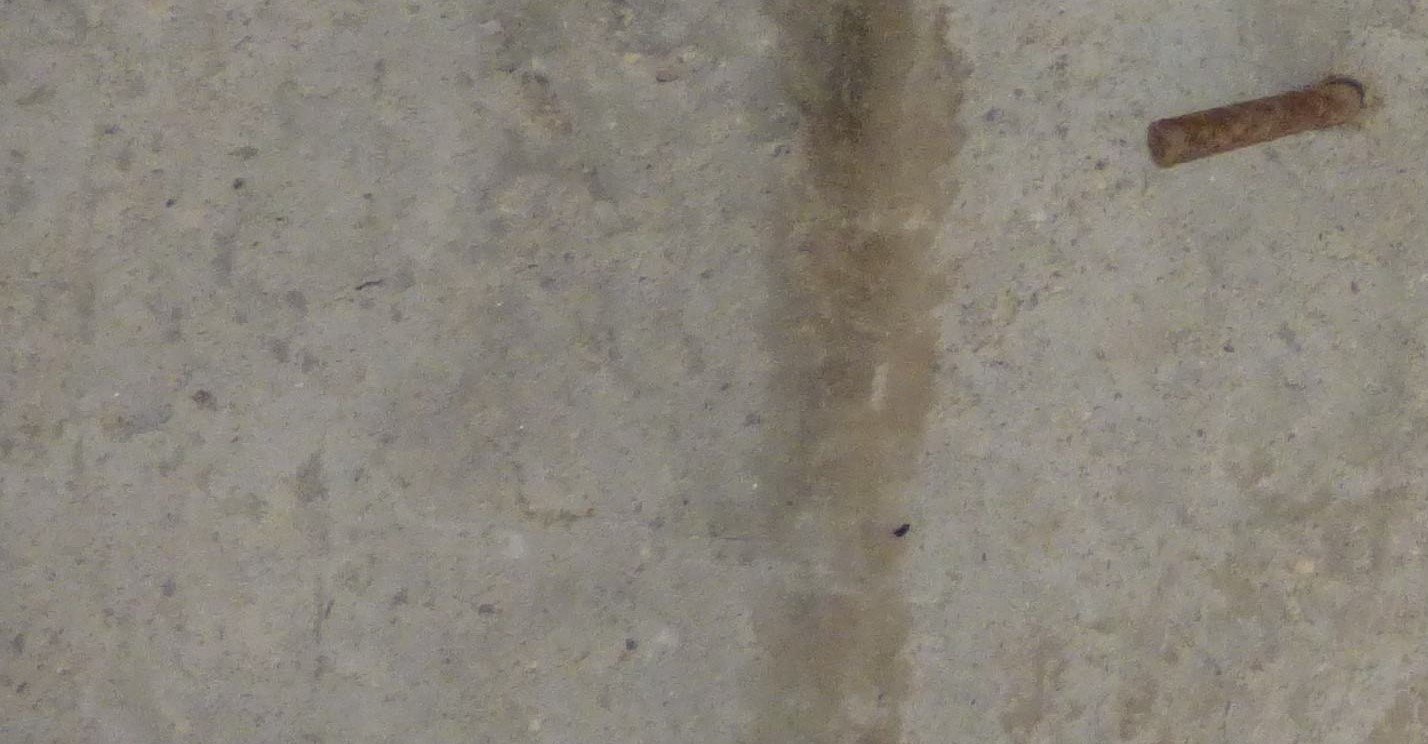Exposed reinforcement: (1146, 83, 1362, 170)
